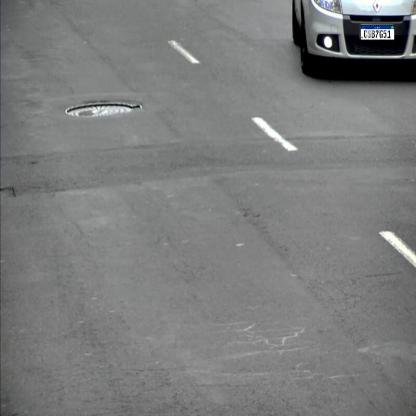PlacaM: (360, 25, 395, 40)
